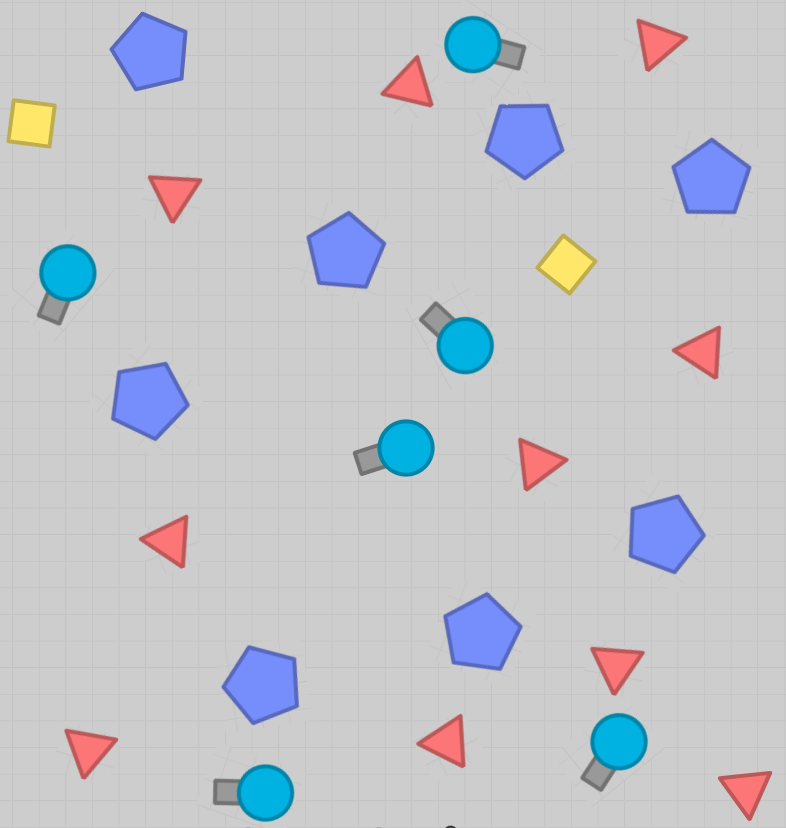Pentagon: (482, 100, 568, 184), (106, 359, 191, 443), (441, 589, 525, 674), (671, 135, 755, 218), (108, 10, 191, 92), (303, 209, 386, 291), (624, 493, 707, 574), (219, 643, 300, 726)
Player: (413, 297, 497, 377), (577, 711, 650, 795), (441, 11, 529, 76), (208, 762, 297, 826), (350, 417, 435, 481), (34, 243, 98, 327)
Square: (534, 231, 599, 295), (3, 96, 60, 151)
Triangle: (376, 52, 437, 114), (60, 722, 122, 782), (144, 170, 208, 226), (514, 431, 571, 493), (412, 709, 468, 772), (716, 767, 778, 823), (585, 643, 648, 697), (668, 322, 724, 380), (135, 512, 191, 570), (634, 16, 689, 74)
